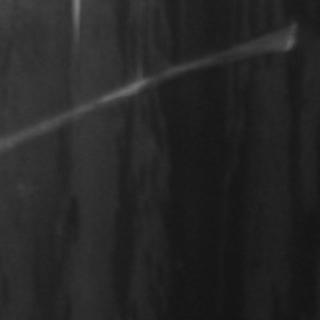scratches: (4, 20, 296, 152)
